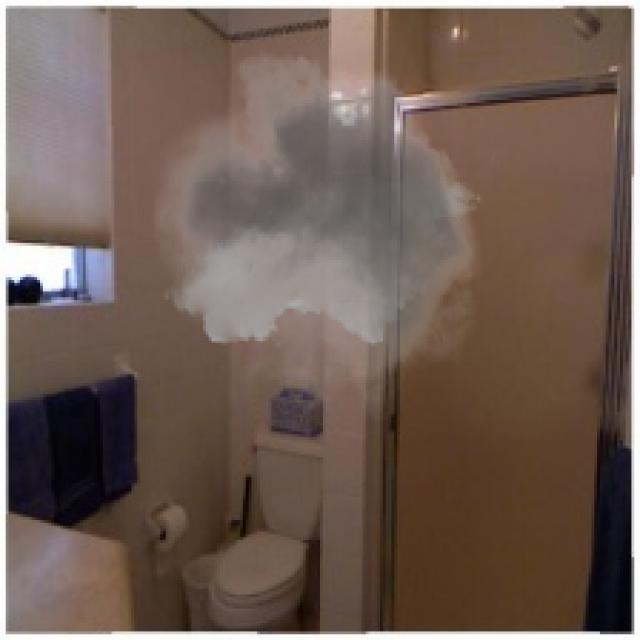smoke: (152, 34, 494, 423)
